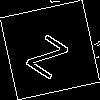Z: (25, 25, 76, 80)
